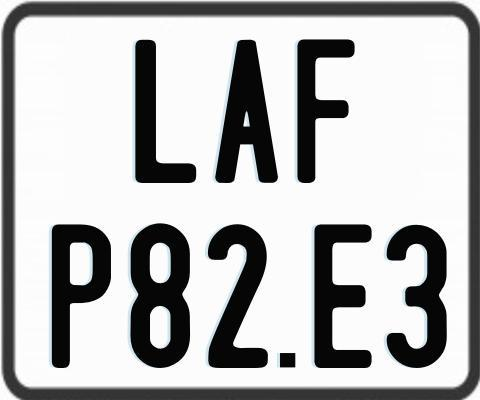2: (206, 221, 268, 370)
3: (387, 224, 447, 369)
8: (130, 221, 190, 366)
A: (215, 39, 278, 188)
E: (312, 221, 375, 371)
F: (296, 39, 354, 189)
L: (135, 40, 202, 187)
P: (49, 224, 113, 369)
